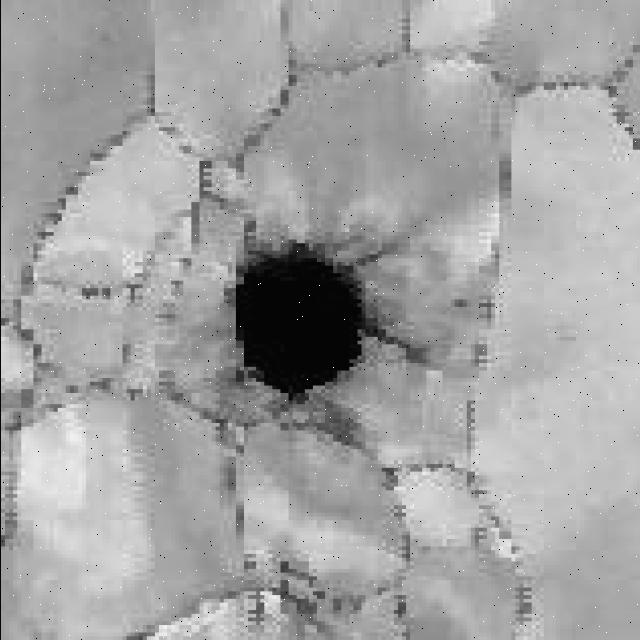good_void: (226, 240, 423, 402)
